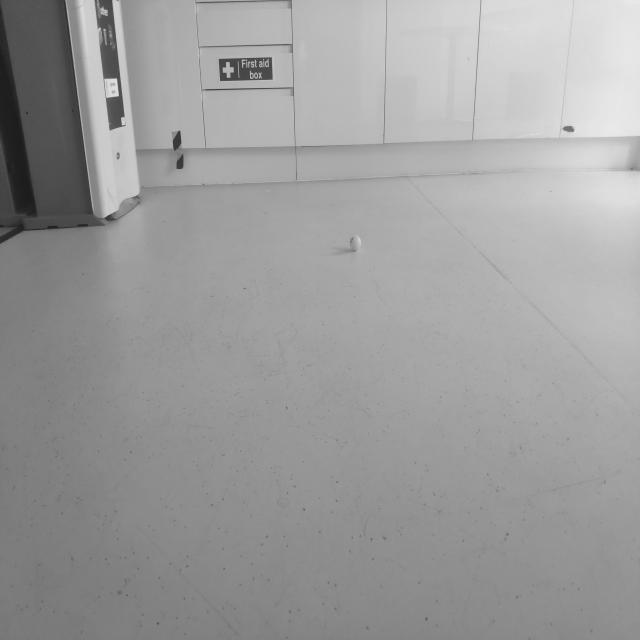ping-pong-ball: (349, 235, 362, 252)
